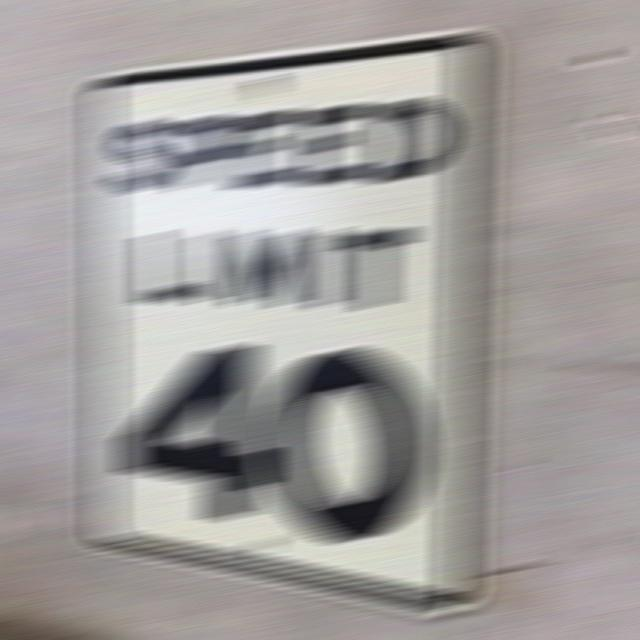speedLimit40: (91, 31, 485, 586)
